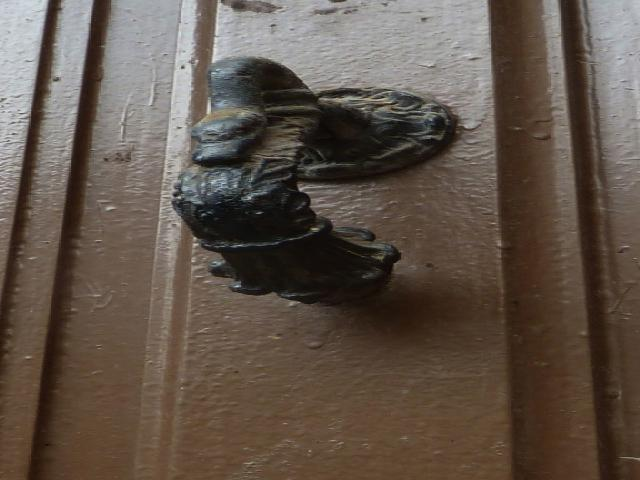Door-handle: (172, 55, 458, 307)
